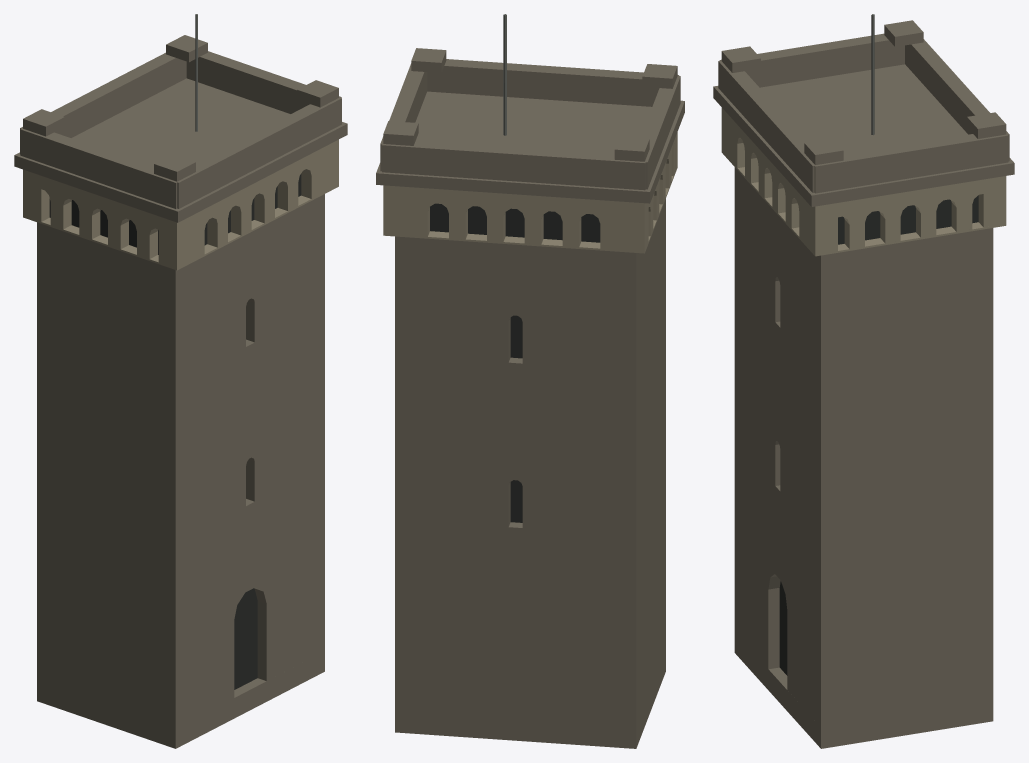
The model's file is tour-de-la-miotte-far.glb.
3 renders of one model, left to right at view 1: azimuth 30°, elevation 25°; view 2: azimuth 150°, elevation 25°; view 3: azimuth 270°, elevation 25°, orthographic. The views are drawn at different scales.
Visible parts, largest first — view 1: tour-de-la-miotte-0-stone, tour-de-la-miotte-0-trim, tour-de-la-miotte-0-shadow; view 2: tour-de-la-miotte-0-stone, tour-de-la-miotte-0-trim, tour-de-la-miotte-0-shadow; view 3: tour-de-la-miotte-0-stone, tour-de-la-miotte-0-trim, tour-de-la-miotte-0-shadow.
Boxes of the visible parts, box(x1,y1,x2,y2) form: tour-de-la-miotte-0-stone: box(14, 35, 347, 748); tour-de-la-miotte-0-trim: box(23, 139, 338, 270); tour-de-la-miotte-0-shadow: box(49, 174, 301, 689); tour-de-la-miotte-0-stone: box(376, 48, 684, 748); tour-de-la-miotte-0-trim: box(383, 132, 677, 253); tour-de-la-miotte-0-shadow: box(430, 203, 600, 522); tour-de-la-miotte-0-stone: box(713, 20, 1014, 748); tour-de-la-miotte-0-trim: box(721, 107, 1006, 256); tour-de-la-miotte-0-shadow: box(779, 195, 978, 675).
Size of the model in its own units: 6.59 by 14.8 by 5.92.
